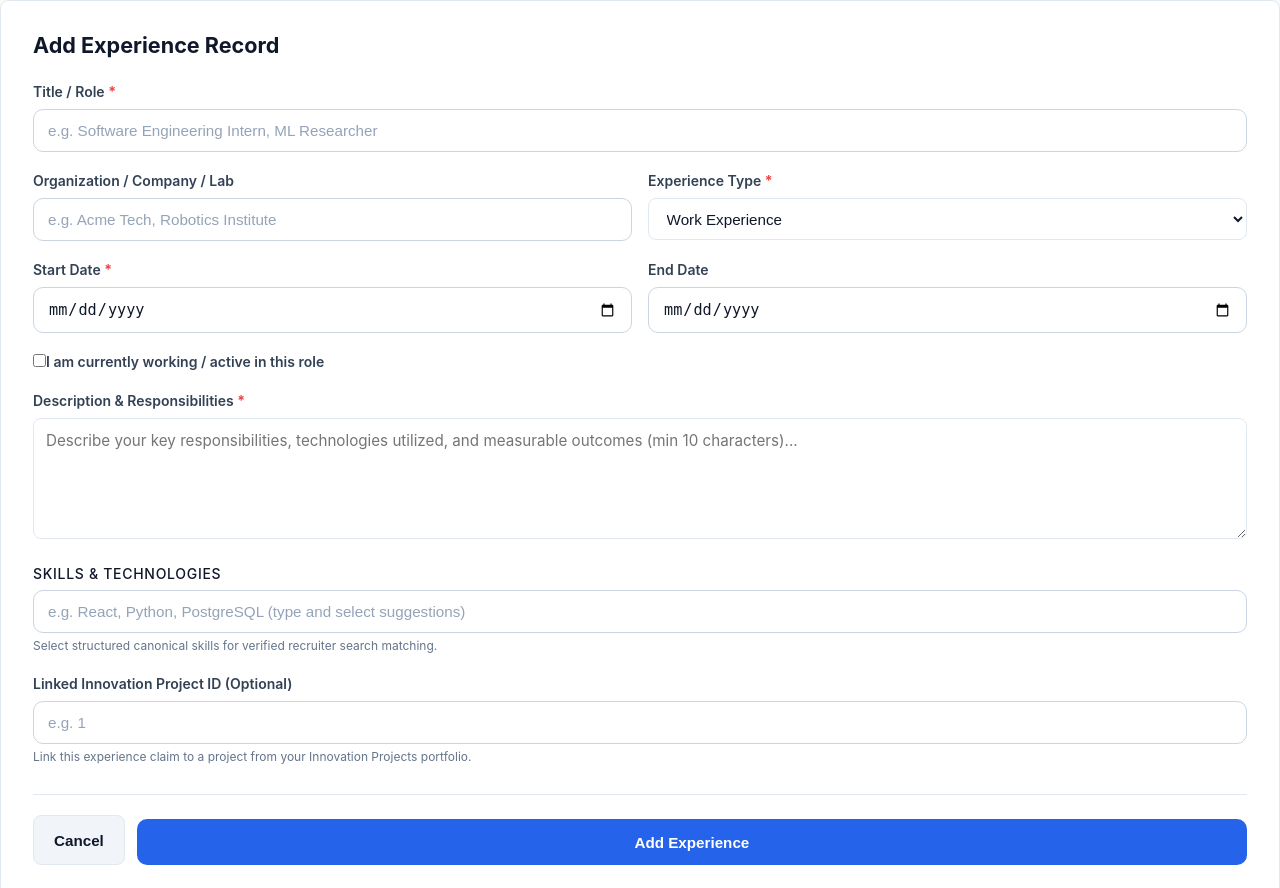
Test: ExperienceForm Component › validates required fields and min lengths on submit
The width and height of the screenshot is (1280, 888).
Step 1. Click the button with test id "submit-experience-btn" → (692, 842), box [137, 819, 1247, 865]
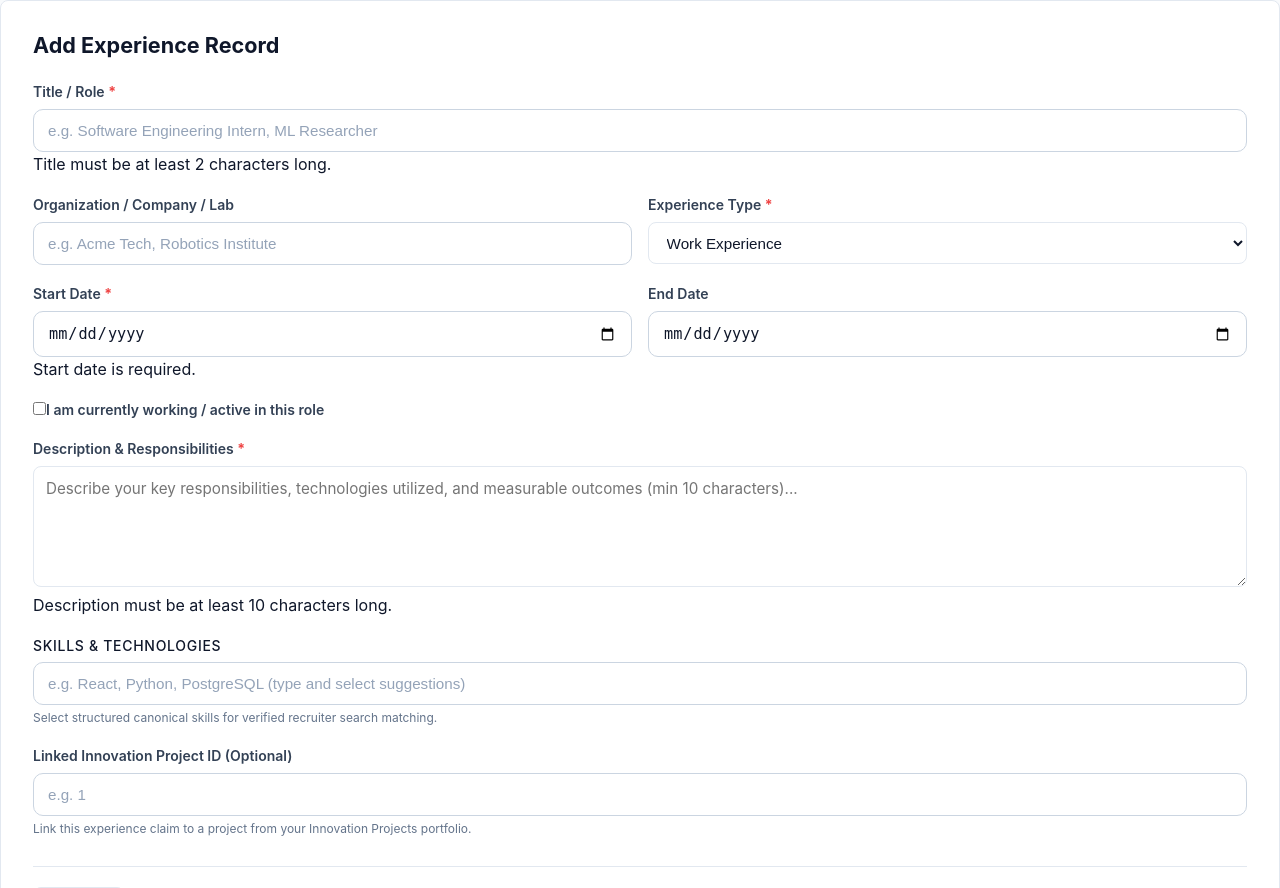
Check: the text "Title must be at least 2 characters long." is shown, box [33, 154, 331, 174]
Check: the text "Start date is required." is shown, box [33, 359, 196, 379]
Check: the text "Description must be at least 10 characters long." is shown, box [33, 595, 392, 615]
